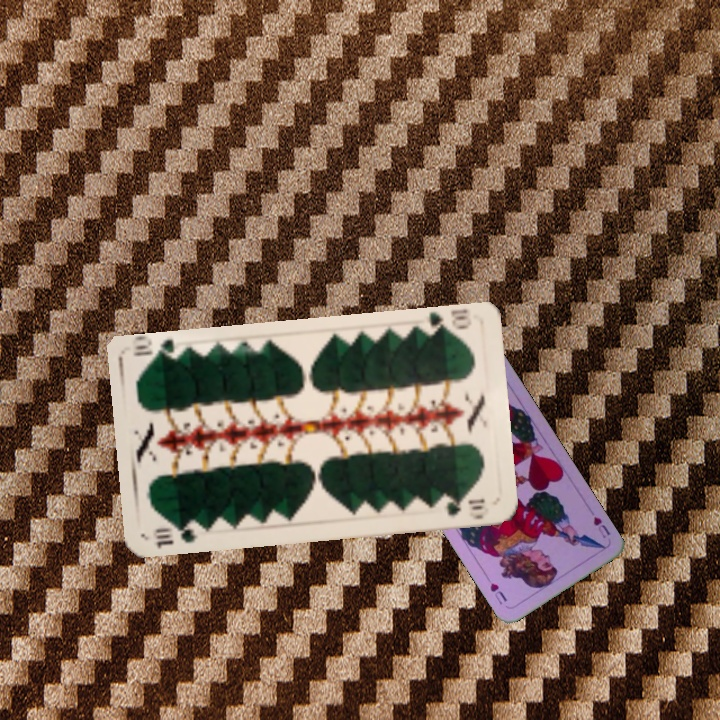G10: (418, 308, 474, 338), (151, 519, 205, 550)
HU: (589, 512, 613, 541)
